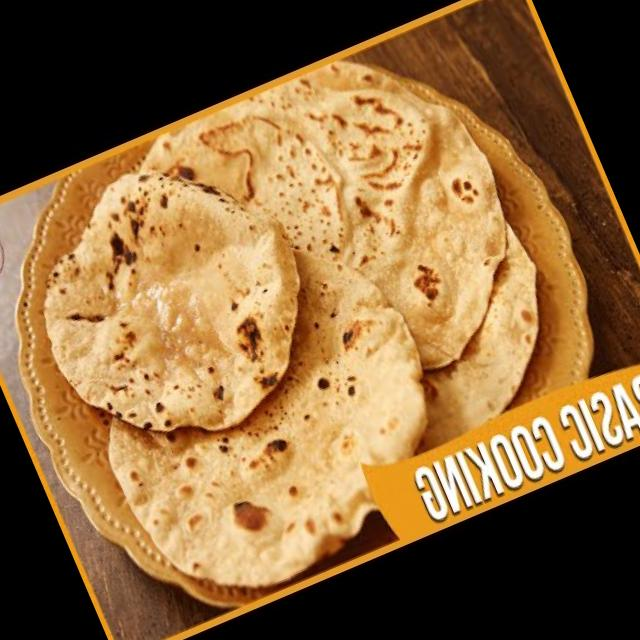roti: (42, 60, 544, 591)
